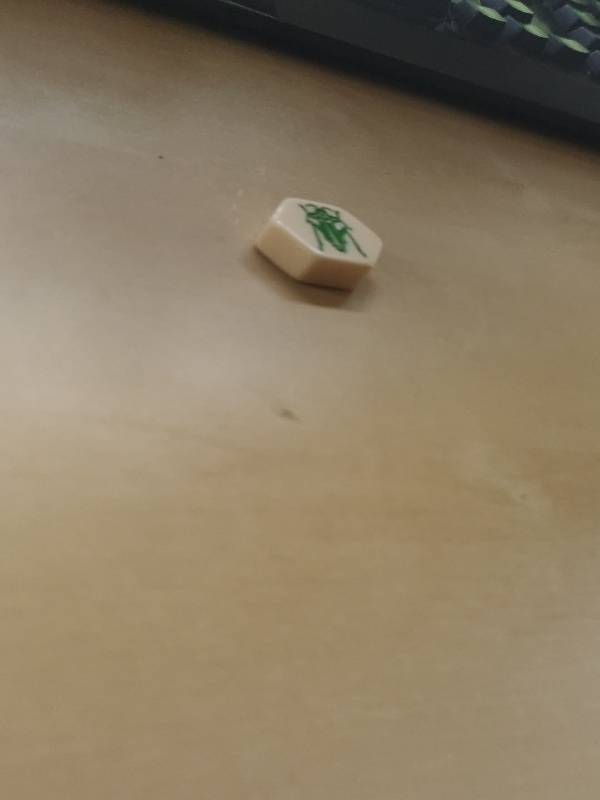white_grasshopper: (253, 195, 387, 286)
